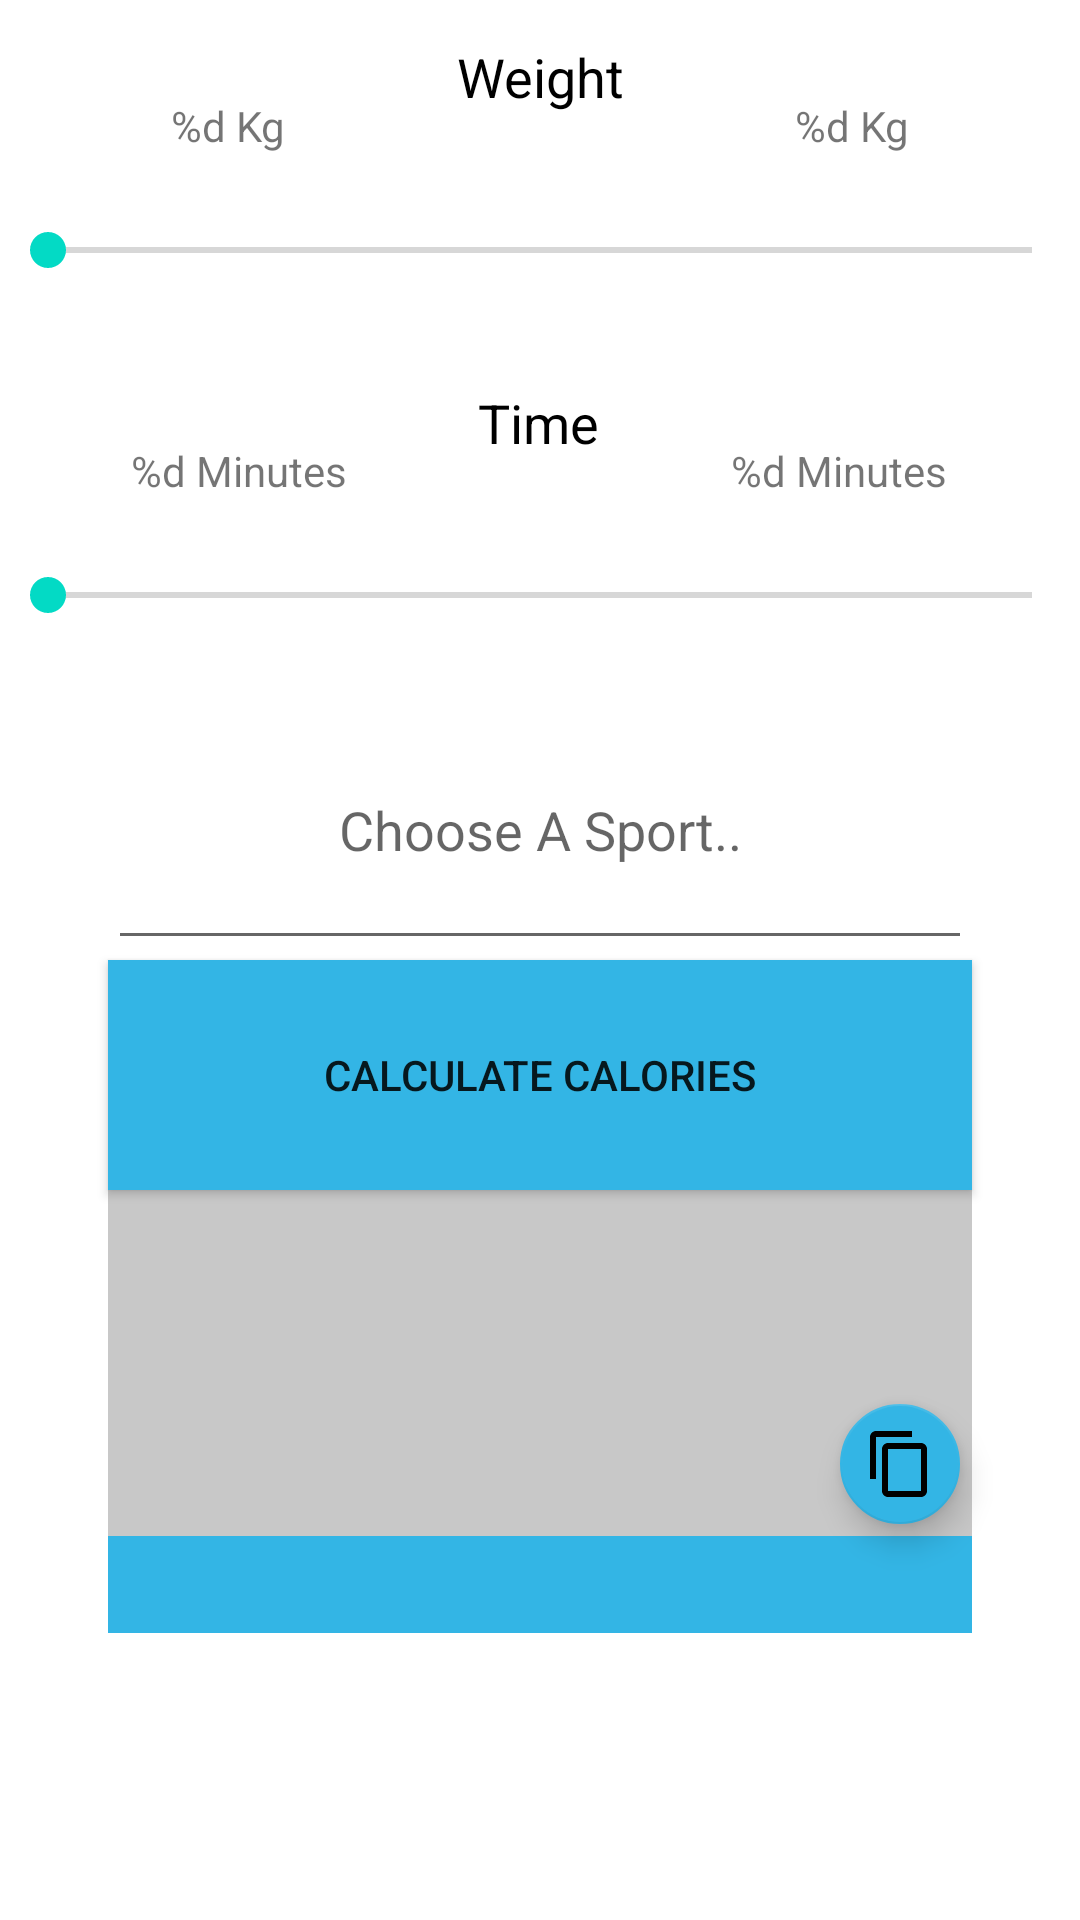

Icons on this 1080x1920 Android screen, each with its box as rect(x1, y1, x2, y2):
copy to clipboard: rect(840, 1404, 960, 1532)
